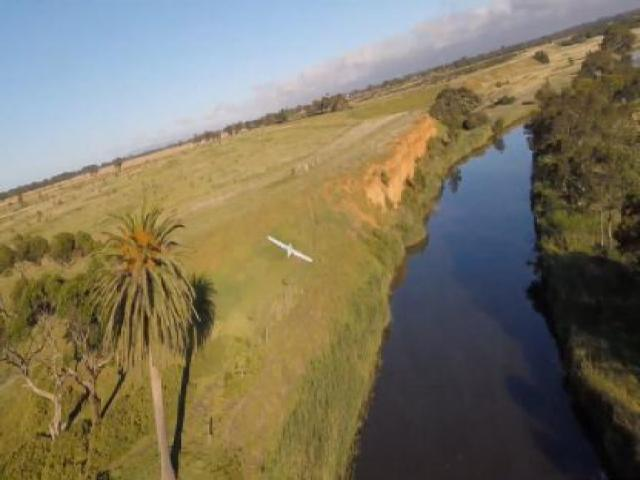uav: (264, 235, 314, 264)
